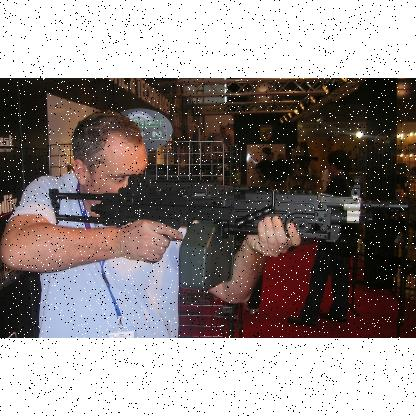gun: (48, 174, 409, 290)
